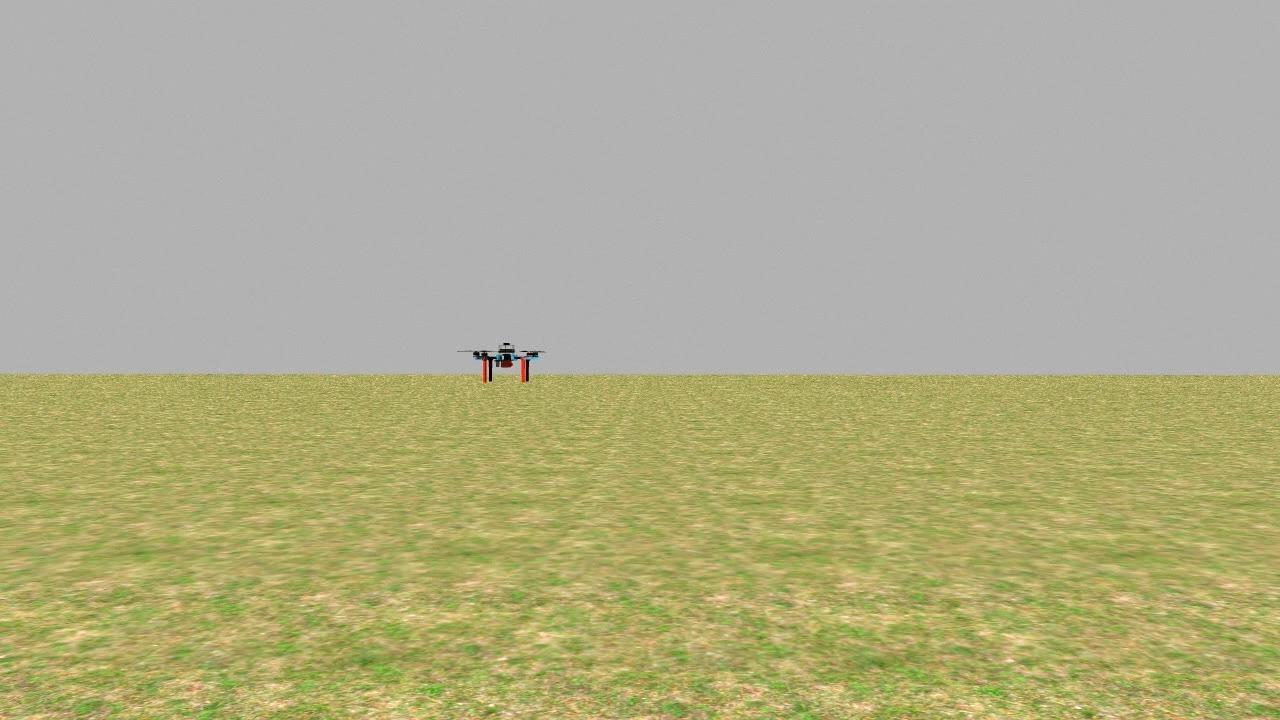UAV: (450, 322, 566, 398)
